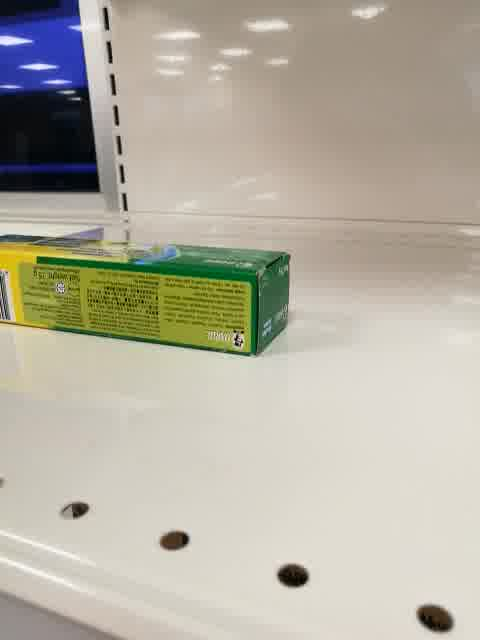toothpaste: (1, 232, 290, 359)
